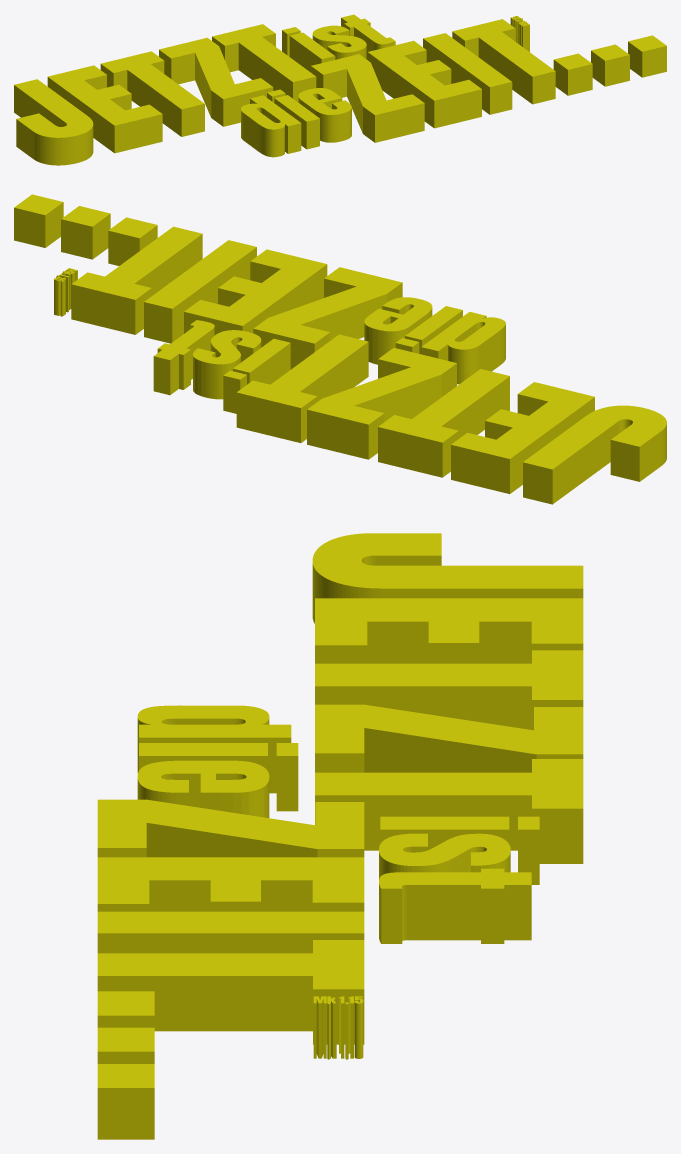
Rendered from Jetzt-ist-die-Zeit.glb.
3 views of the same model, one above another, from view 1: azimuth 30°, elevation 25°; view 2: azimuth 150°, elevation 25°; view 3: azimuth 270°, elevation 25° (orthographic). The views are drawn at different scales.
Parts seen in each view (by area): view 1: Mesh_Mesh_head_geo.001_lambert2SG.001; view 2: Mesh_Mesh_head_geo.001_lambert2SG.001; view 3: Mesh_Mesh_head_geo.001_lambert2SG.001.
Part boxes in pixels (<box>): Mesh_Mesh_head_geo.001_lambert2SG.001: <box>14,14,666,165</box>; Mesh_Mesh_head_geo.001_lambert2SG.001: <box>14,194,666,504</box>; Mesh_Mesh_head_geo.001_lambert2SG.001: <box>97,533,583,1139</box>.
Bounding box in the file's own units: 183 × 8.55 × 68.
